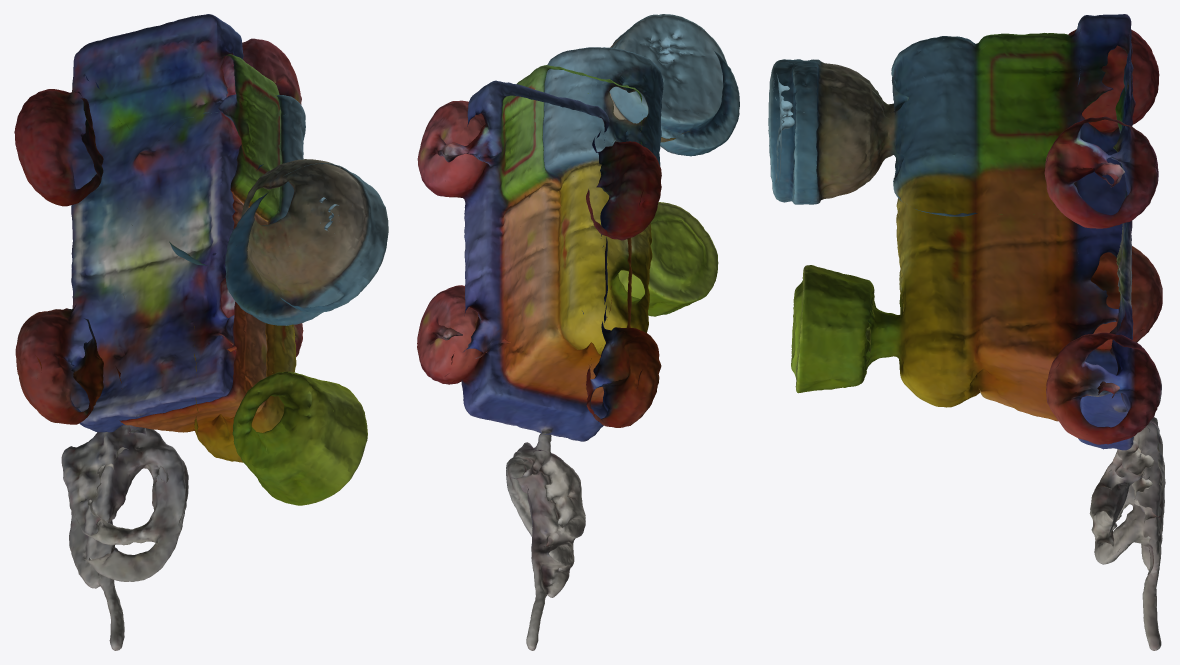
Rendered from train.glb.
3 renders of one model, left to right at view 1: azimuth 30°, elevation 25°; view 2: azimuth 150°, elevation 25°; view 3: azimuth 270°, elevation 25°, orthographic. The views are drawn at different scales.
Size of the model in its own units: 0.4268 by 1 by 0.5798.
